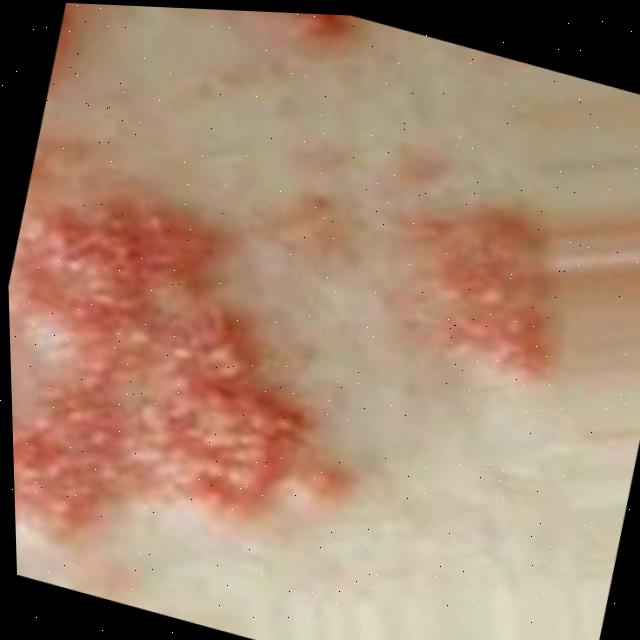Shingles: (0, 0, 618, 640)
